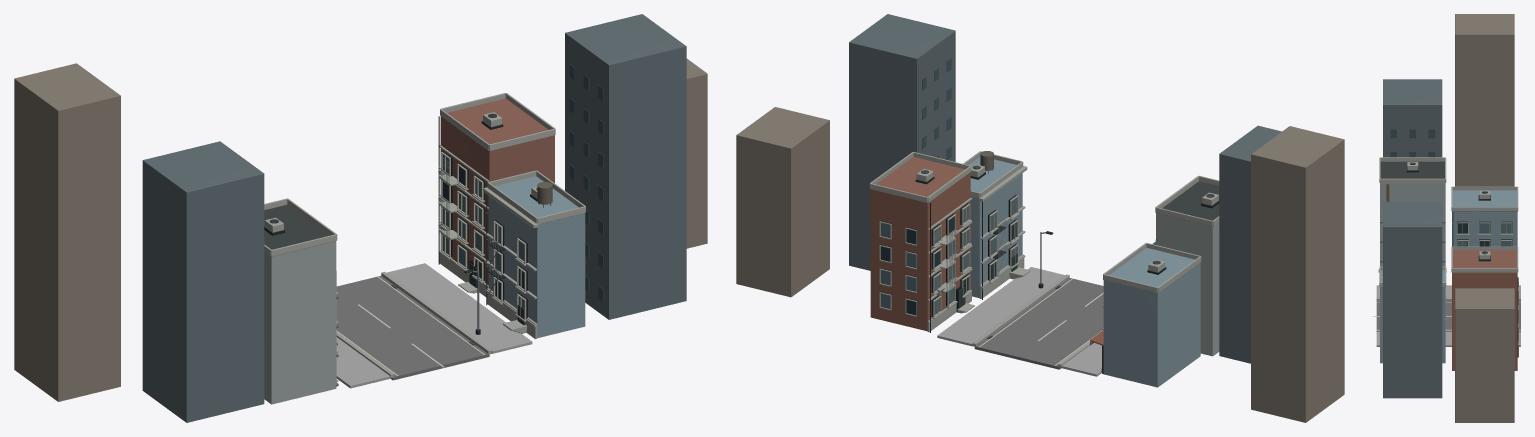
Rendered from city_hd_14.glb.
3 renders of one model, left to right at view 1: azimuth 30°, elevation 25°; view 2: azimuth 150°, elevation 25°; view 3: azimuth 270°, elevation 25°, orthographic. The views are drawn at different scales.
Parts seen in each view (by area): view 1: CITY_distant_2, CITY_distant_3, Modern apartment main volume, CITY_storefront, CITY_PBR_asphalt, Masonry apartment volume, CITY_trim, CITY_PBR_pavement, CITY_frame, CITY_roof, CITY_distant_window, CITY_glass (+4 smaller); view 2: CITY_distant_3, CITY_distant_2, CITY_storefront, Masonry apartment volume, CITY_trim, CITY_PBR_asphalt, CITY_PBR_pavement, Modern apartment main volume, CITY_frame, CITY_glass, CITY_roof, CITY_recess (+6 smaller); view 3: CITY_distant_3, CITY_distant_2, CITY_storefront, Masonry apartment volume, CITY_trim, Modern apartment main volume, CITY_roof, CITY_frame, CITY_recess, CITY_PBR_asphalt, CITY_PBR_pavement, CITY_distant_window (+4 smaller).
Part boxes in pixels (x1,y1,x2,y2): CITY_distant_2: (142,14,686,422); CITY_distant_3: (14,58,707,401); Modern apartment main volume: (264,241,336,404); CITY_storefront: (488,176,585,337); CITY_PBR_asphalt: (336,276,489,380); Masonry apartment volume: (440,98,554,284); CITY_trim: (264,93,585,382); CITY_PBR_pavement: (336,263,532,388); CITY_frame: (336,152,526,379); CITY_roof: (264,151,489,256); CITY_distant_window: (569,64,603,301); CITY_glass: (442,154,524,307); CITY_distant_3: (736,107,1344,422); CITY_distant_2: (849,14,1281,363); CITY_storefront: (969,157,1200,387); Masonry apartment volume: (870,157,970,331); CITY_trim: (869,151,1219,332); CITY_PBR_asphalt: (974,278,1103,369); CITY_PBR_pavement: (937,267,1101,376); Modern apartment main volume: (1156,213,1219,356); CITY_frame: (879,195,1155,317); CITY_glass: (880,198,1155,314); CITY_roof: (1157,181,1219,293); CITY_recess: (880,195,1016,316); CITY_distant_3: (1455,14,1514,422); CITY_distant_2: (1383,79,1442,398); CITY_storefront: (1380,190,1517,363); Masonry apartment volume: (1452,250,1517,370); CITY_trim: (1378,157,1518,338); Modern apartment main volume: (1380,183,1445,266); CITY_roof: (1380,161,1517,211); CITY_frame: (1457,222,1518,357); CITY_recess: (1457,221,1518,357); CITY_PBR_asphalt: (1376,301,1520,329); CITY_PBR_pavement: (1376,285,1520,346); CITY_distant_window: (1390,129,1435,157).
Bounding box in the file's own units: 56 × 24.26 × 16.4.
